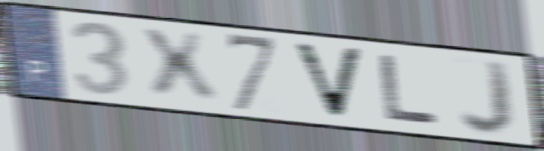3: (67, 20, 135, 98)
7: (225, 31, 283, 114)
J: (457, 57, 517, 138)
L: (375, 51, 443, 126)
V: (288, 39, 367, 122)
X: (135, 26, 224, 106)
